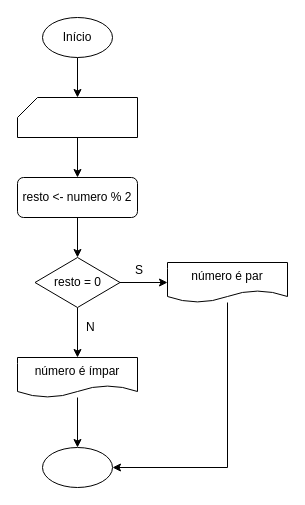
Some shapes in this 305 by 505 pixel diagram are drawn without their labels. The centre of each missing label's shape, as x and y in pixels:
"Fim" goes at (x=77, y=467).
"numero" goes at (x=77, y=117).
